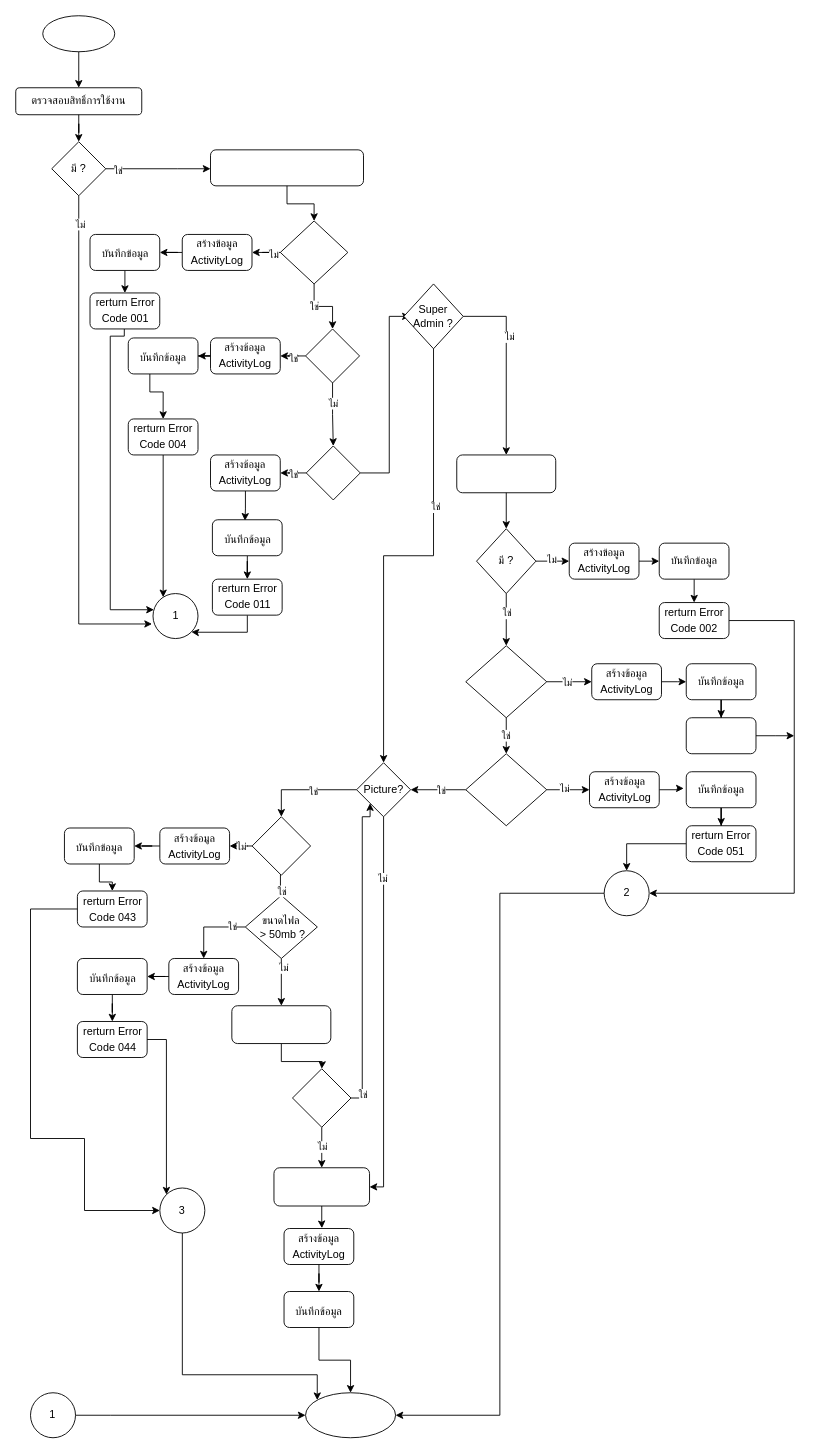
This 817x1454 diagram has some shape labels left out. The shapes that lost their labels are listed below. From the top down, each one's centre as x and y in pixels, then its label:
the point at 78,33: เริ่ม
the point at 287,167: ตรวจสอบ Account สถานะการใช้งาน
the point at 313,252: มีใน ระบบ ?
the point at 332,355: status = 1 ?
the point at 332,472: Locked = 1 ?
the point at 506,473: ตรวจสอบสิทธิ์การใช้งาน Company นี้ไหม
the point at 506,681: Company มีในระบบ ไหม ?
the point at 720,735: rerturn Error Code 007
the point at 506,789: Company Active ?
the point at 281,845: ไฟล รูปภาพ ?
the point at 281,1024: อัปโหลดไฟล์
the point at 321,1097: มีไฟล รูปภาพอีกไหม ?
the point at 321,1186: สร้างหัวข้อการกำกับดูแลกิจการ
the point at 350,1415: สิ้นสุด
